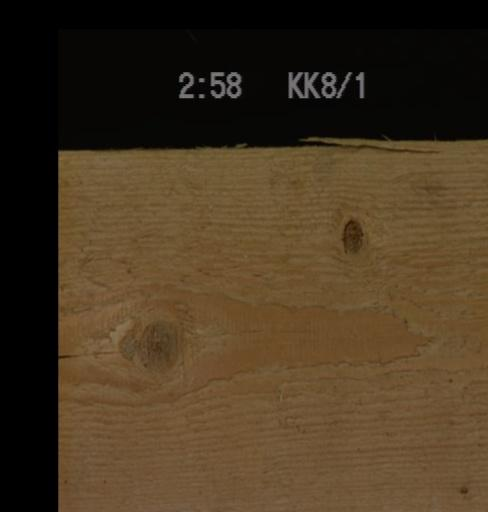dry_knot: (341, 218, 363, 255)
sound_knot: (135, 318, 179, 372)
split: (58, 349, 123, 360)
